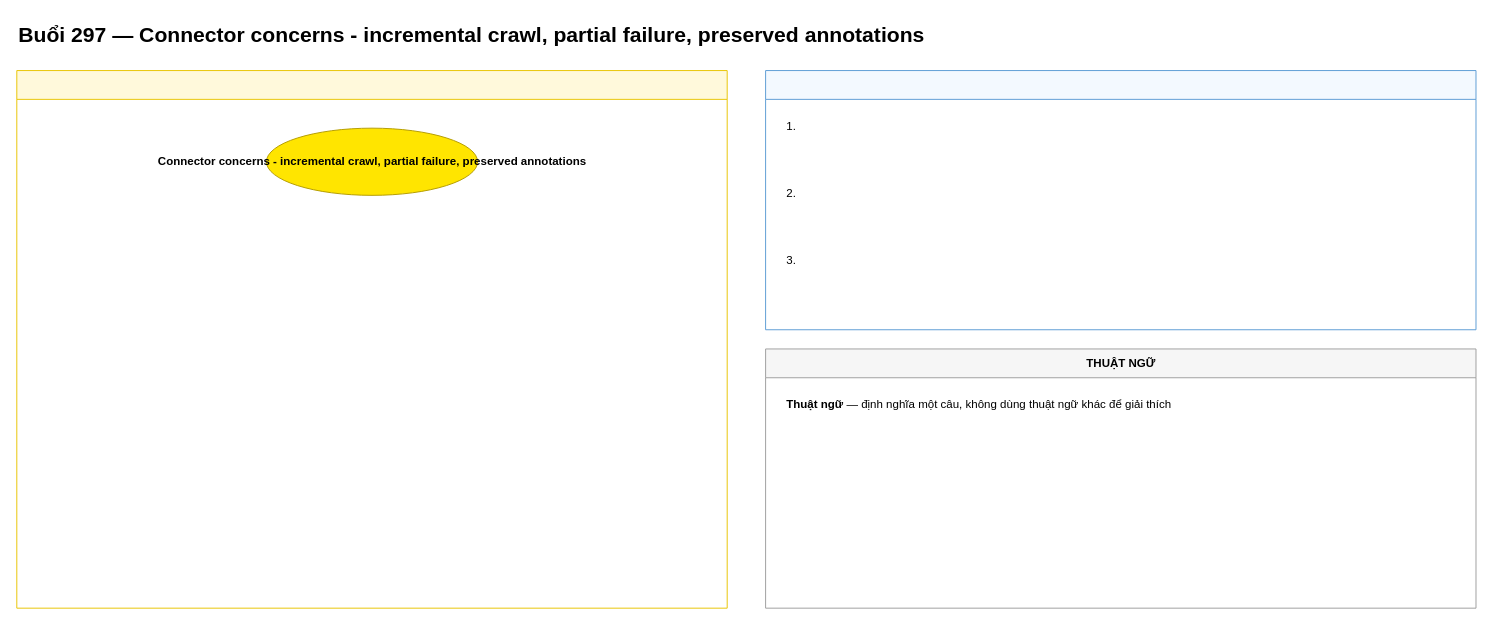
Some shapes in this 1493 by 625 pixel diagram are drawn without their labels. The box of each missing label's shape, as (x1, y1, x2, y2) in pixels:
KEY TAKEAWAY — ba điều phải nhớ: (765, 70, 1476, 330)
MINDMAP: (16, 70, 727, 608)
